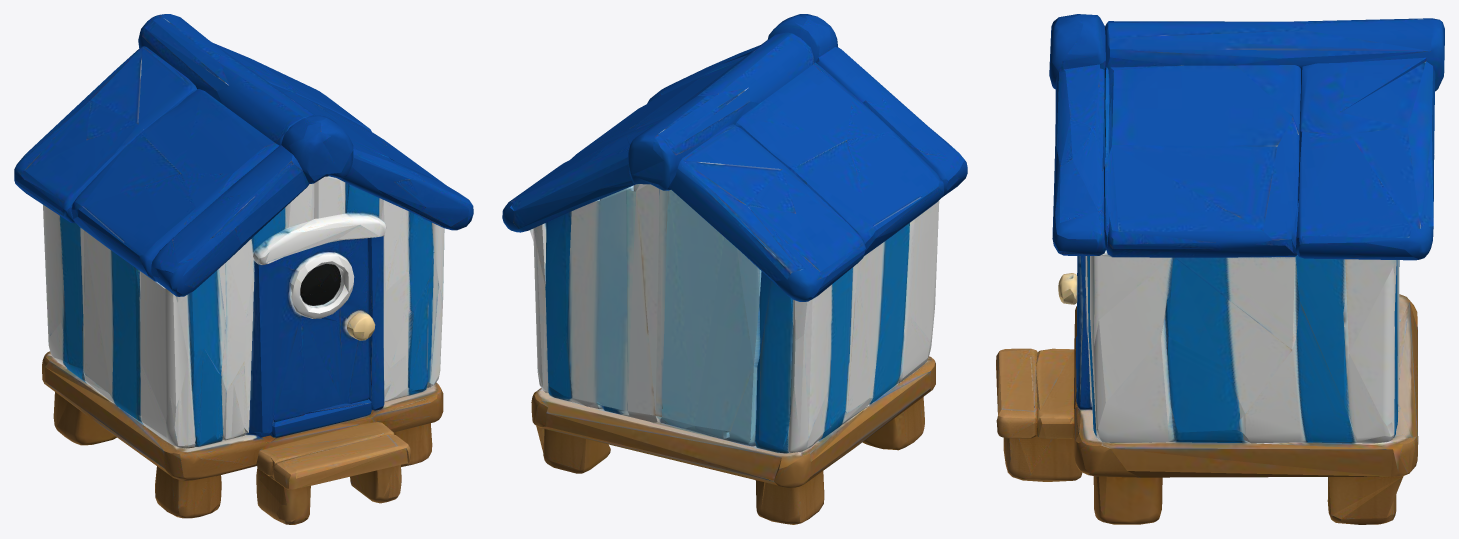
The model's file is strand-badehus.glb.
3 renders of one model, left to right at view 1: azimuth 30°, elevation 25°; view 2: azimuth 150°, elevation 25°; view 3: azimuth 270°, elevation 25°, orthographic. The views are drawn at different scales.
Bounding box in the file's own units: 1.64 × 1.9 × 1.76.
1 material, 1 textured.
